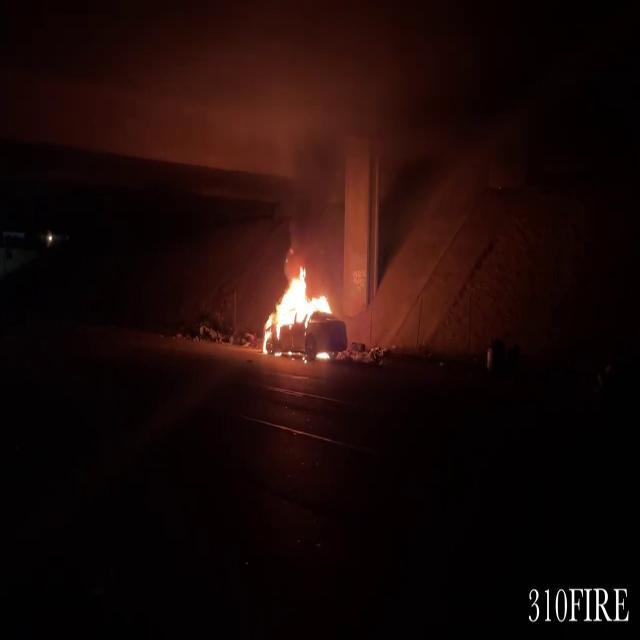Fire: (258, 256, 340, 358)
